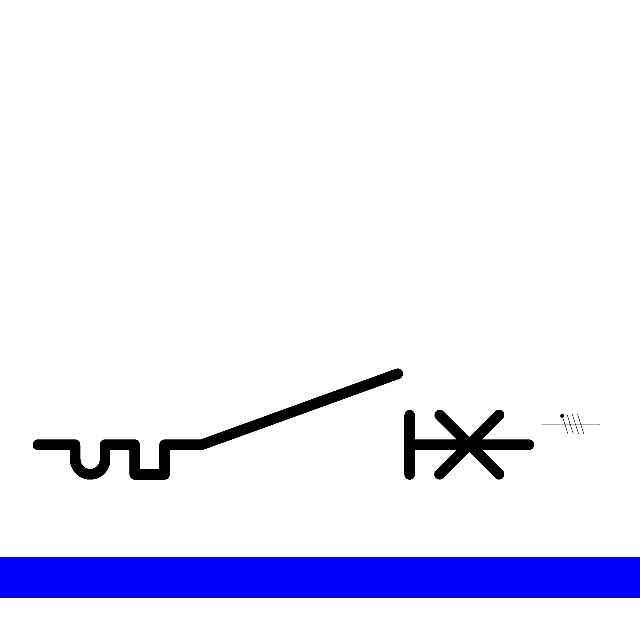interruptor_termomagnetico: (25, 361, 542, 487)
